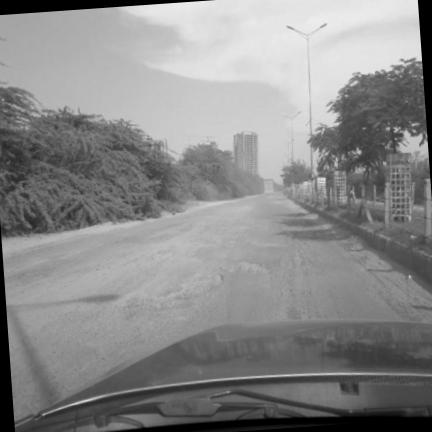Road: (3, 195, 431, 417)
